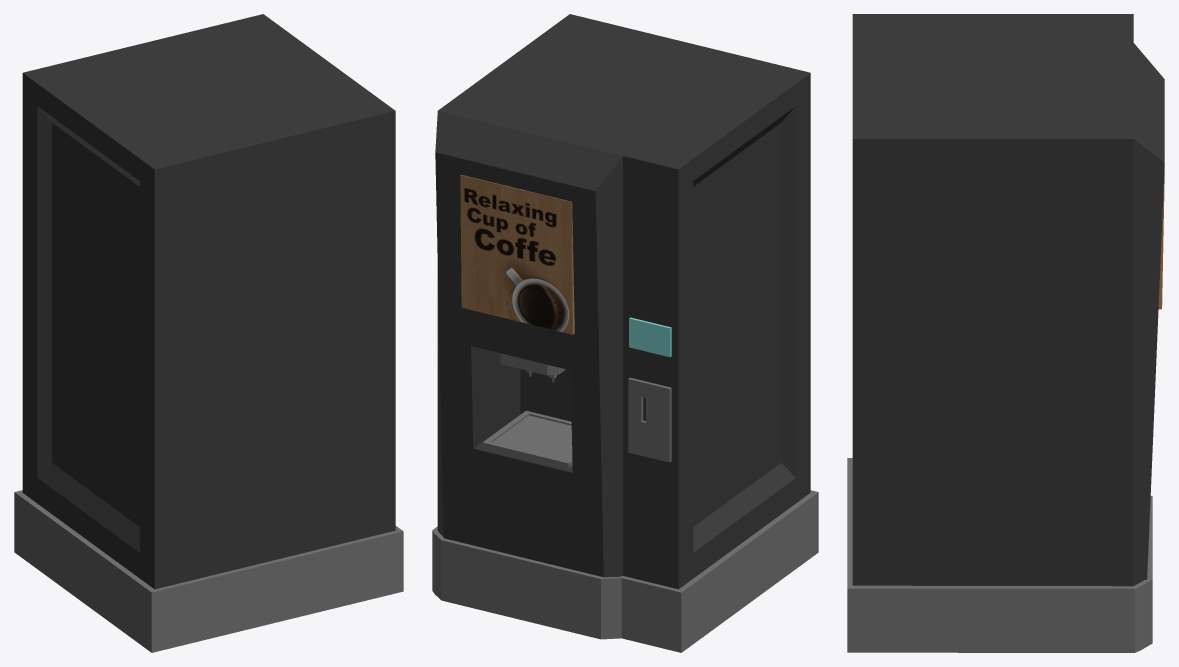
The model's file is MaquinaDeCafe.fbx.
3 views of the same model, side by side, from view 1: azimuth 30°, elevation 25°; view 2: azimuth 150°, elevation 25°; view 3: azimuth 270°, elevation 25° (orthographic). The views are drawn at different scales.
Visible parts, largest first — view 1: Cube, Cube.001; view 2: Cube, Cube.001, Plane.002, Plane, Plane.003, Plane.004; view 3: Cube, Cube.001.
Boxes of the visible parts, <box> form: Cube: <box>22,14,395,589</box>; Cube.001: <box>14,490,403,652</box>; Cube: <box>435,14,810,589</box>; Cube.001: <box>432,490,818,652</box>; Plane.002: <box>460,174,574,334</box>; Plane: <box>482,410,572,468</box>; Plane.003: <box>628,377,671,462</box>; Plane.004: <box>629,317,671,357</box>; Cube: <box>852,14,1164,586</box>; Cube.001: <box>847,458,1152,652</box>.
Bounding box in the file's own units: 104 × 190 × 107.
5 materials, 1 textured.
